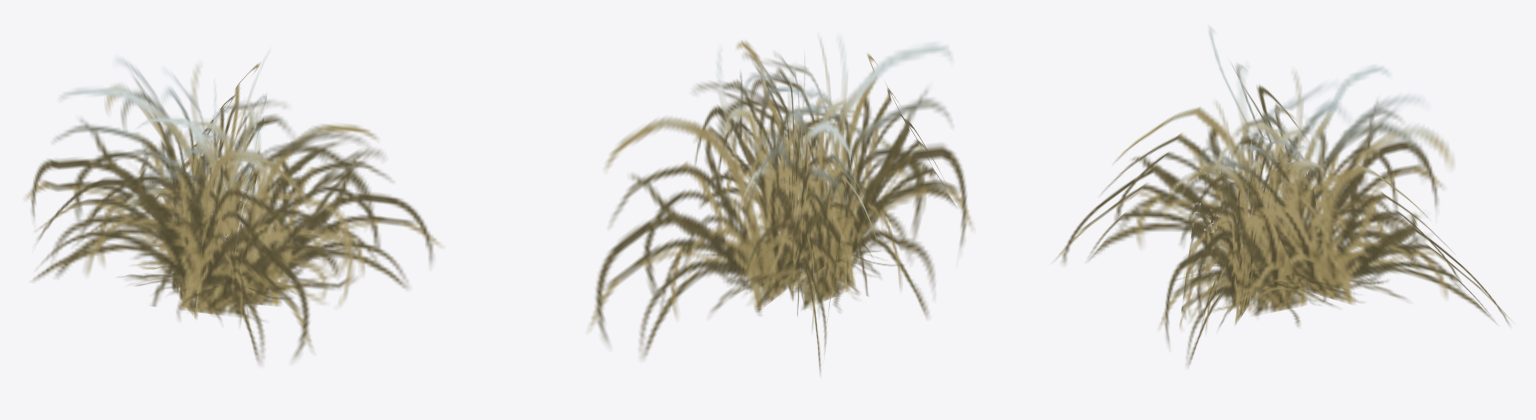
The model's file is ichu_04_nieve.glb.
3 renders of one model, left to right at view 1: azimuth 30°, elevation 25°; view 2: azimuth 150°, elevation 25°; view 3: azimuth 270°, elevation 25°, orthographic. The views are drawn at different scales.
Parts seen in each view (by area): view 1: Ichu; view 2: Ichu; view 3: Ichu.
Part boxes in pixels (x1,y1,x2,y2): Ichu: (25,48,442,363); Ichu: (588,34,972,373); Ichu: (1054,25,1512,365).
Size of the model in its own units: 0.4204 by 0.31 by 0.5094.
1 material, 1 textured.
